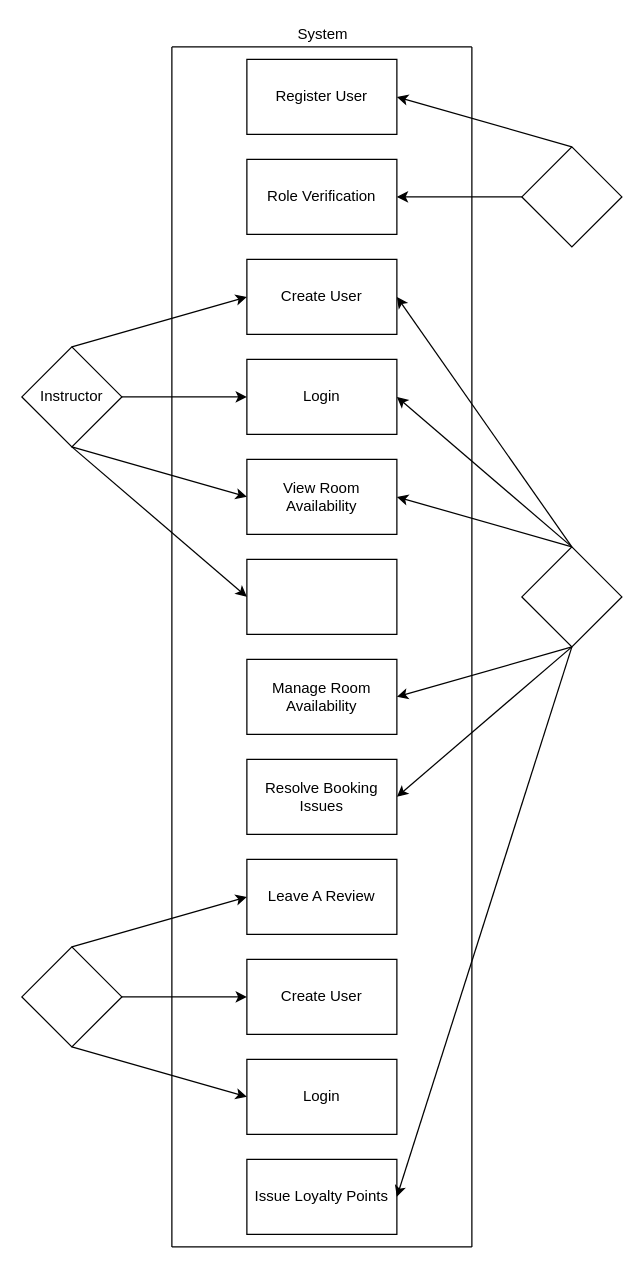
Some shapes in this 644 by 1270 pixel diagram are drawn without their labels. Here are the shapes that lost their labels. From the top down, the centre of each, then its label:
At [571,196]: "Ether Auth System".
At [321,596]: "Book Room".
At [571,596]: "Admin".
At [71,996]: "Student".
